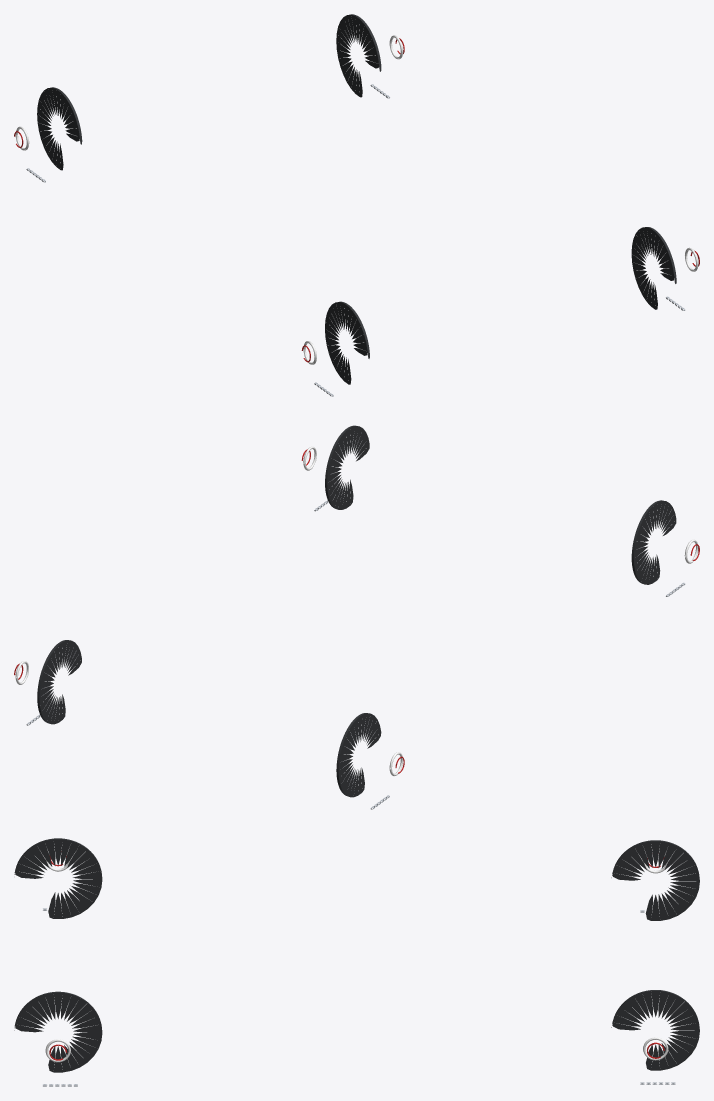
File: wheel_hub_details.glb
3 renders of one model, top to bottom at view 1: azimuth 30°, elevation 25°; view 2: azimuth 150°, elevation 25°; view 3: azimuth 270°, elevation 25°, orthographic. The views are drawn at different scales.
Parts seen in each view (by area): view 1: Wheel_Balancers_Hub_Detail_Assembly; view 2: Wheel_Balancers_Hub_Detail_Assembly; view 3: Wheel_Balancers_Hub_Detail_Assembly.
Boxes of the visible parts, <box> form: Wheel_Balancers_Hub_Detail_Assembly: <box>14,14,699,396</box>; Wheel_Balancers_Hub_Detail_Assembly: <box>14,425,699,809</box>; Wheel_Balancers_Hub_Detail_Assembly: <box>14,838,699,1086</box>.
Size of the model in its own units: 2.09 by 0.4129 by 3.1.
